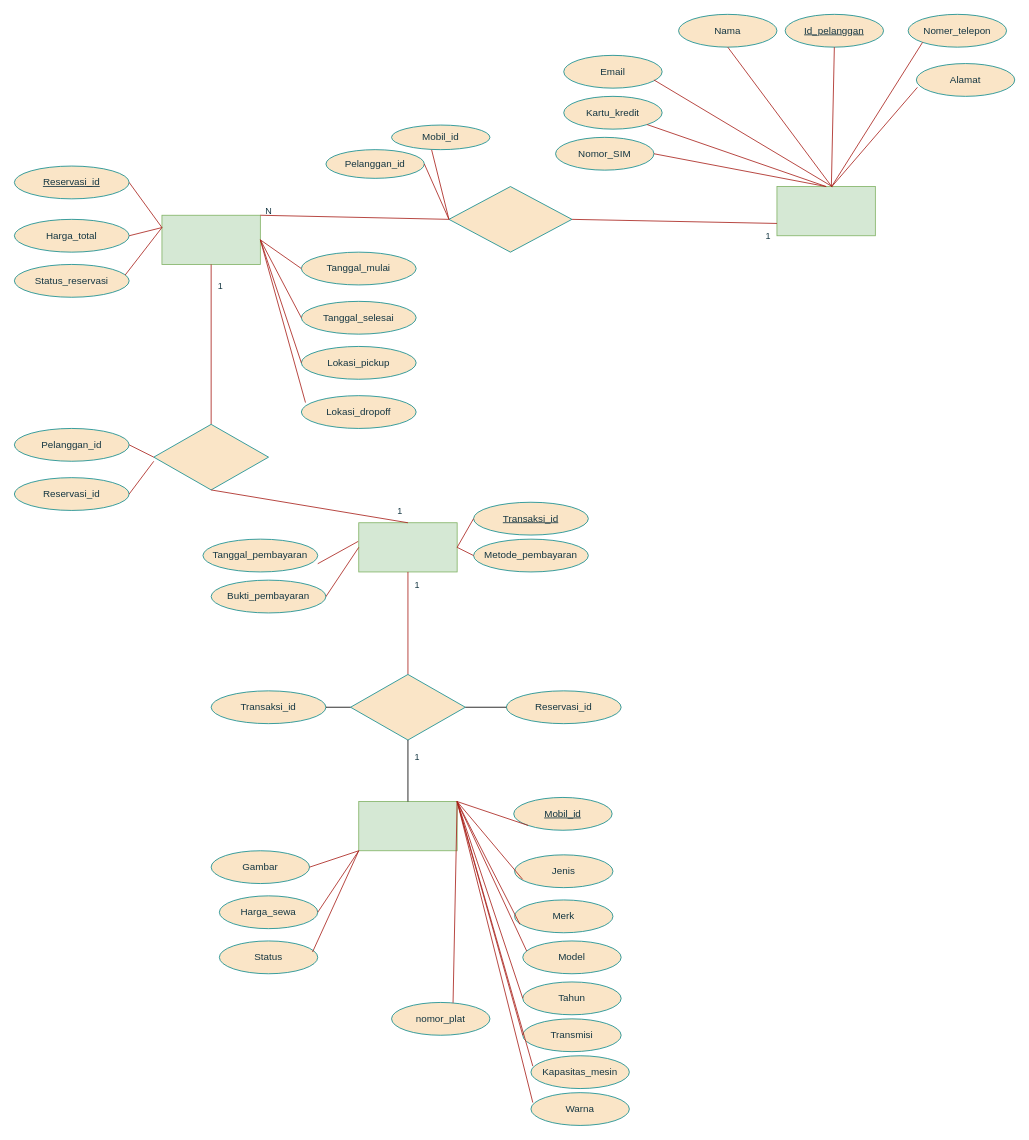
Image size: 1029x1140. Some labels were removed from this diagram. The centre of each missing label's shape, as x and y in pixels:
"melakukan" goes at [510,219].
"Melibatkan" goes at [407,707].
"MOBIL" goes at [407,826].
"PELANGGAN" goes at [825,211].
"RESERVASI" goes at [210,239].
"terjadi" goes at [211,457].
"TRANSAKSI" goes at [407,547].
